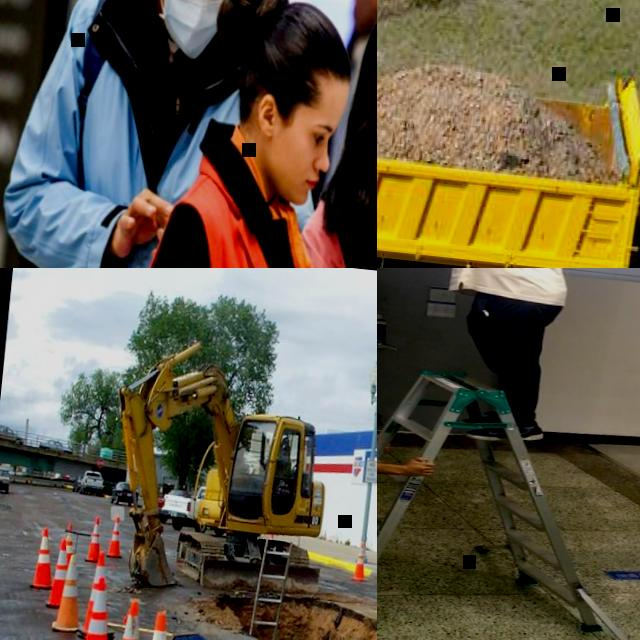Mask: (144, 0, 246, 66)
NO-Hardhat: (234, 0, 361, 94)
NO-Mask: (265, 151, 318, 205), (346, 2, 377, 33)
NO-Safety Vest: (20, 0, 251, 268), (125, 172, 347, 268)
Person: (108, 0, 377, 268), (0, 0, 269, 268), (377, 268, 573, 444), (268, 0, 377, 268), (377, 362, 441, 640), (342, 0, 377, 55)
Safety Cone: (76, 549, 122, 640), (73, 578, 123, 640), (49, 554, 85, 634), (96, 595, 149, 640), (125, 607, 189, 640), (30, 525, 57, 591), (45, 538, 69, 608), (82, 516, 105, 563), (103, 514, 126, 560), (349, 542, 369, 582), (61, 522, 75, 562)
Safety Vest: (436, 268, 574, 305)
vehicle: (98, 334, 342, 604), (377, 22, 640, 268), (159, 482, 209, 531), (153, 487, 189, 525), (109, 479, 138, 505), (81, 470, 105, 497), (37, 438, 74, 454), (0, 422, 24, 444), (0, 465, 10, 491), (71, 474, 83, 492)
